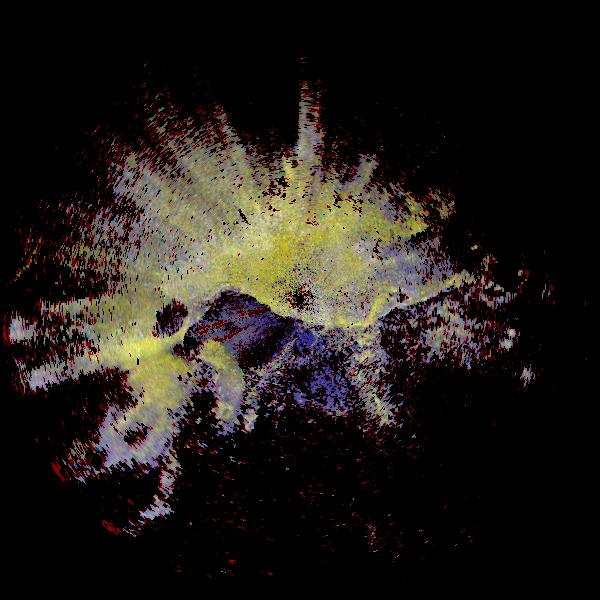roost: (60, 414, 192, 546), (59, 348, 188, 477), (138, 330, 249, 441)
